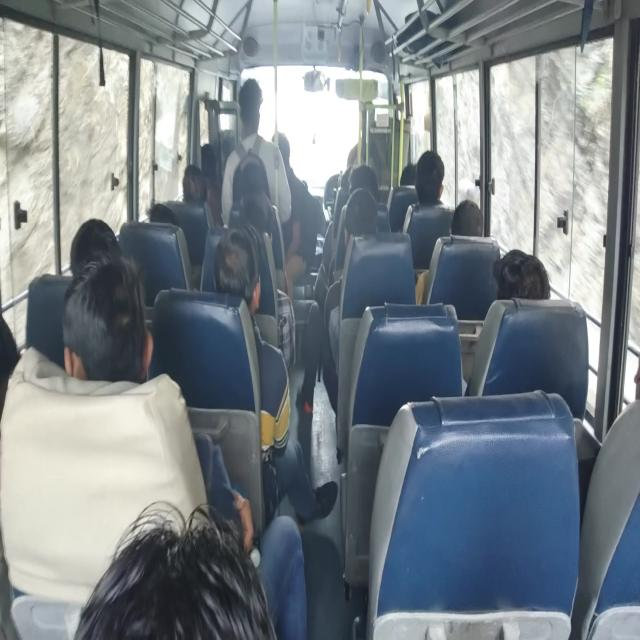person: (61, 251, 256, 557), (213, 227, 338, 524), (74, 497, 308, 639), (295, 164, 379, 415), (464, 248, 551, 396), (62, 253, 154, 383), (220, 77, 292, 229), (271, 131, 320, 293), (415, 198, 484, 305), (401, 150, 452, 272), (69, 217, 121, 278), (492, 248, 550, 300), (178, 164, 215, 228), (414, 150, 445, 207), (450, 199, 484, 236), (180, 163, 207, 203)
